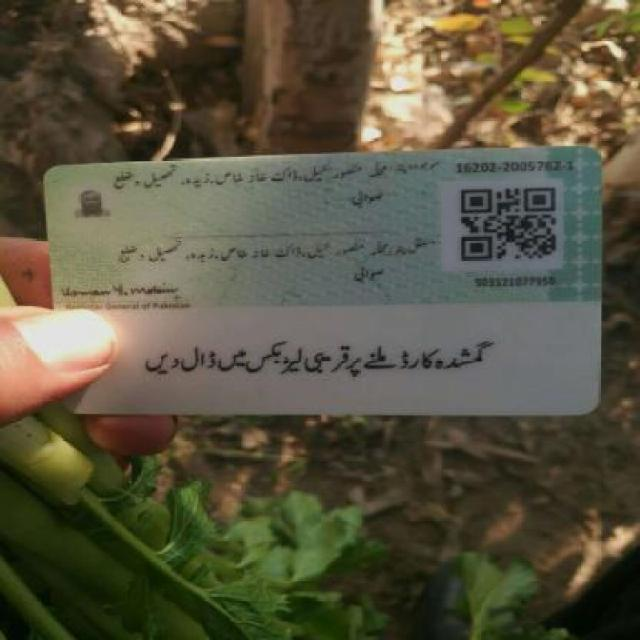Back: (29, 142, 611, 418)
